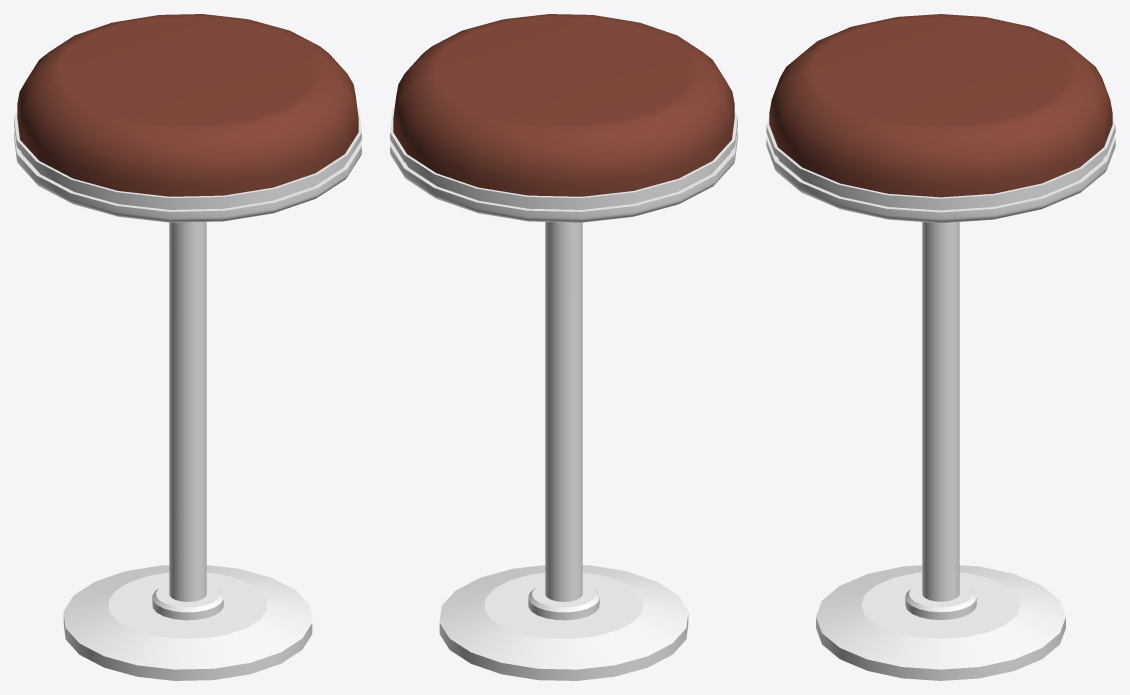
Rendered from BarChair.fbx.
The picture shows the model from 3 angles, left to right: view 1: azimuth 30°, elevation 25°; view 2: azimuth 150°, elevation 25°; view 3: azimuth 270°, elevation 25°; orthographic projection.
Visible parts, largest first — view 1: pCylinder5; view 2: pCylinder5; view 3: pCylinder5.
Part boxes in pixels (box(x1,y1,x2,y2)): pCylinder5: box(14, 14, 361, 680); pCylinder5: box(390, 14, 737, 680); pCylinder5: box(766, 14, 1115, 680).
Bounding box in the file's own units: 2.04 × 3.58 × 2.04.
